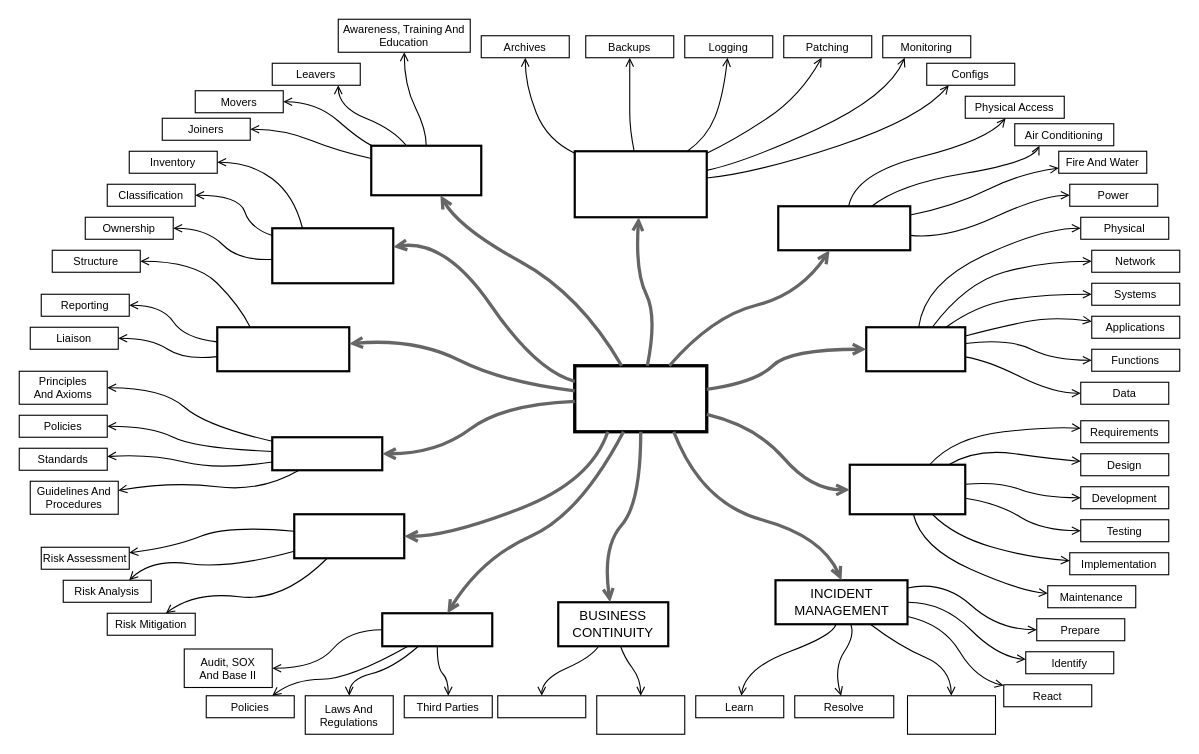
This 1199x754 diagram has some shape labels left out. The centre of each missing label's shape, as x and y in pixels:
"ACCESS CONTROL" goes at pixel 915 349.
"ASSET MANAGEMENT" goes at pixel 332 255.
"COMMUNICATIONS AND OPERATIONS MANAGEMENT" goes at pixel 640 184.
"COMPLIANCE" goes at pixel 437 629.
"Disaster Recovery" goes at pixel 640 714.
"HR SECURITY" goes at pixel 426 170.
"ISO" goes at pixel 640 398.
"Manage and Contain" goes at pixel 951 714.
"ORGANIZATION" goes at pixel 283 349.
"PHYSICAL AND ENVIRONMENTAL" goes at pixel 844 228.
"POLICY" goes at pixel 327 453.
"Resilience" goes at pixel 541 706.
"RISK MANAGEMENT" goes at pixel 349 536.
"SOFTWARE DEVELOPMENT" goes at pixel 907 489.
